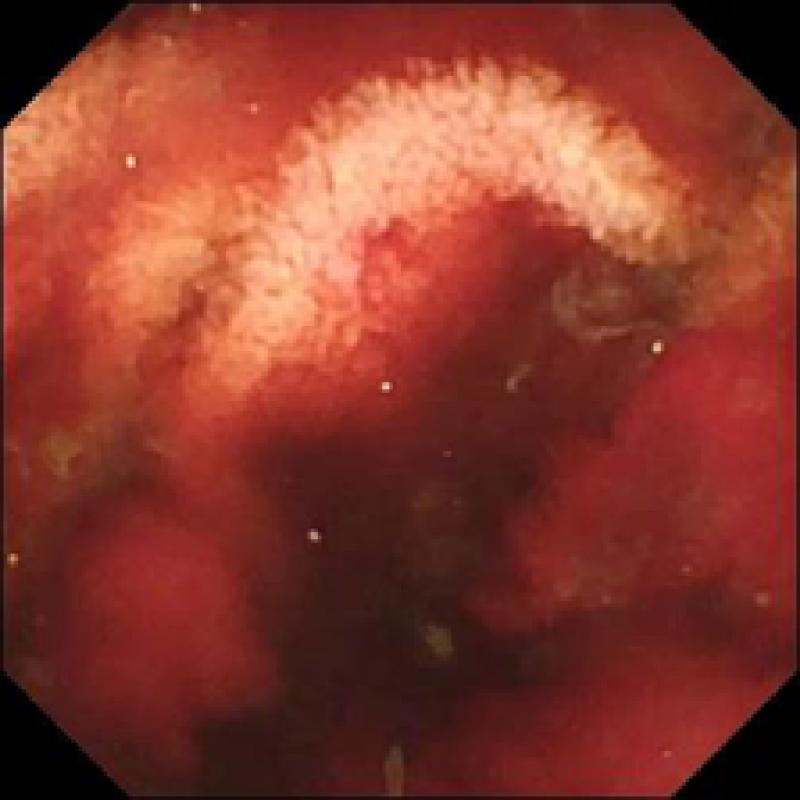bleeding: (6, 230, 799, 800), (239, 0, 779, 179)
